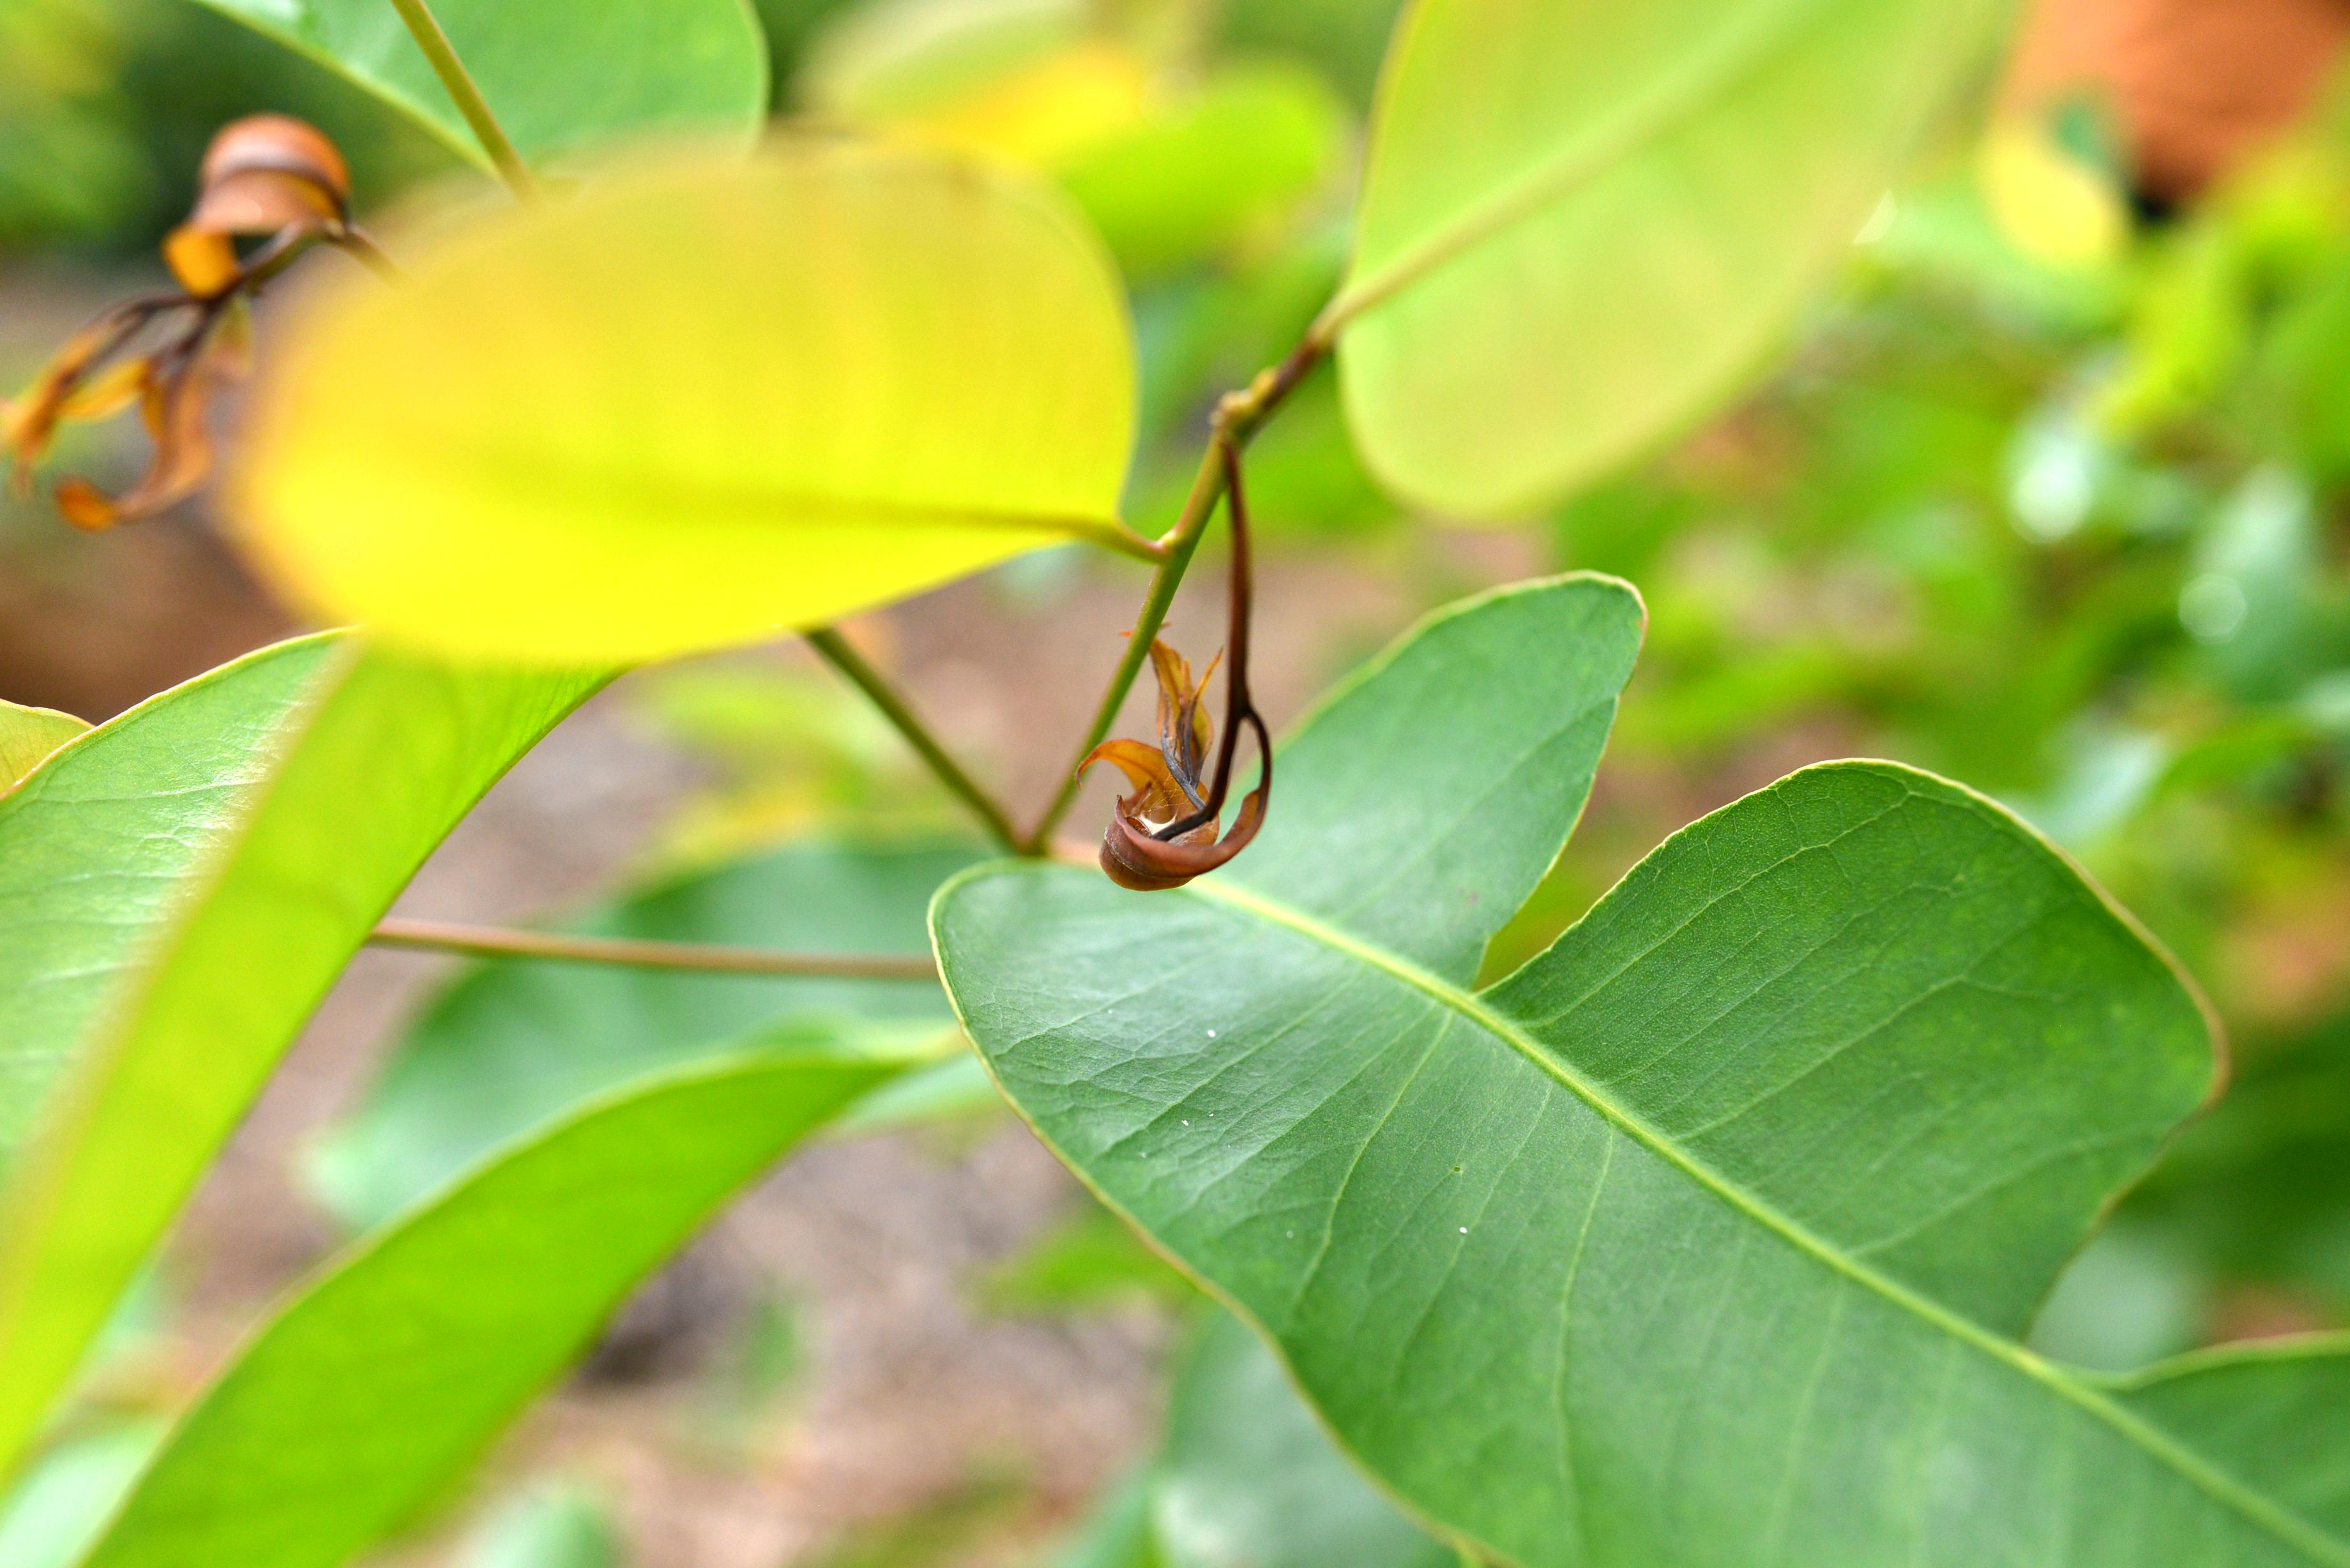Helopeltis-Withered Sprout: (1060, 432, 1272, 891), (44, 308, 252, 539), (171, 119, 359, 299), (0, 283, 161, 485), (1132, 623, 1221, 840), (1078, 735, 1221, 836)
